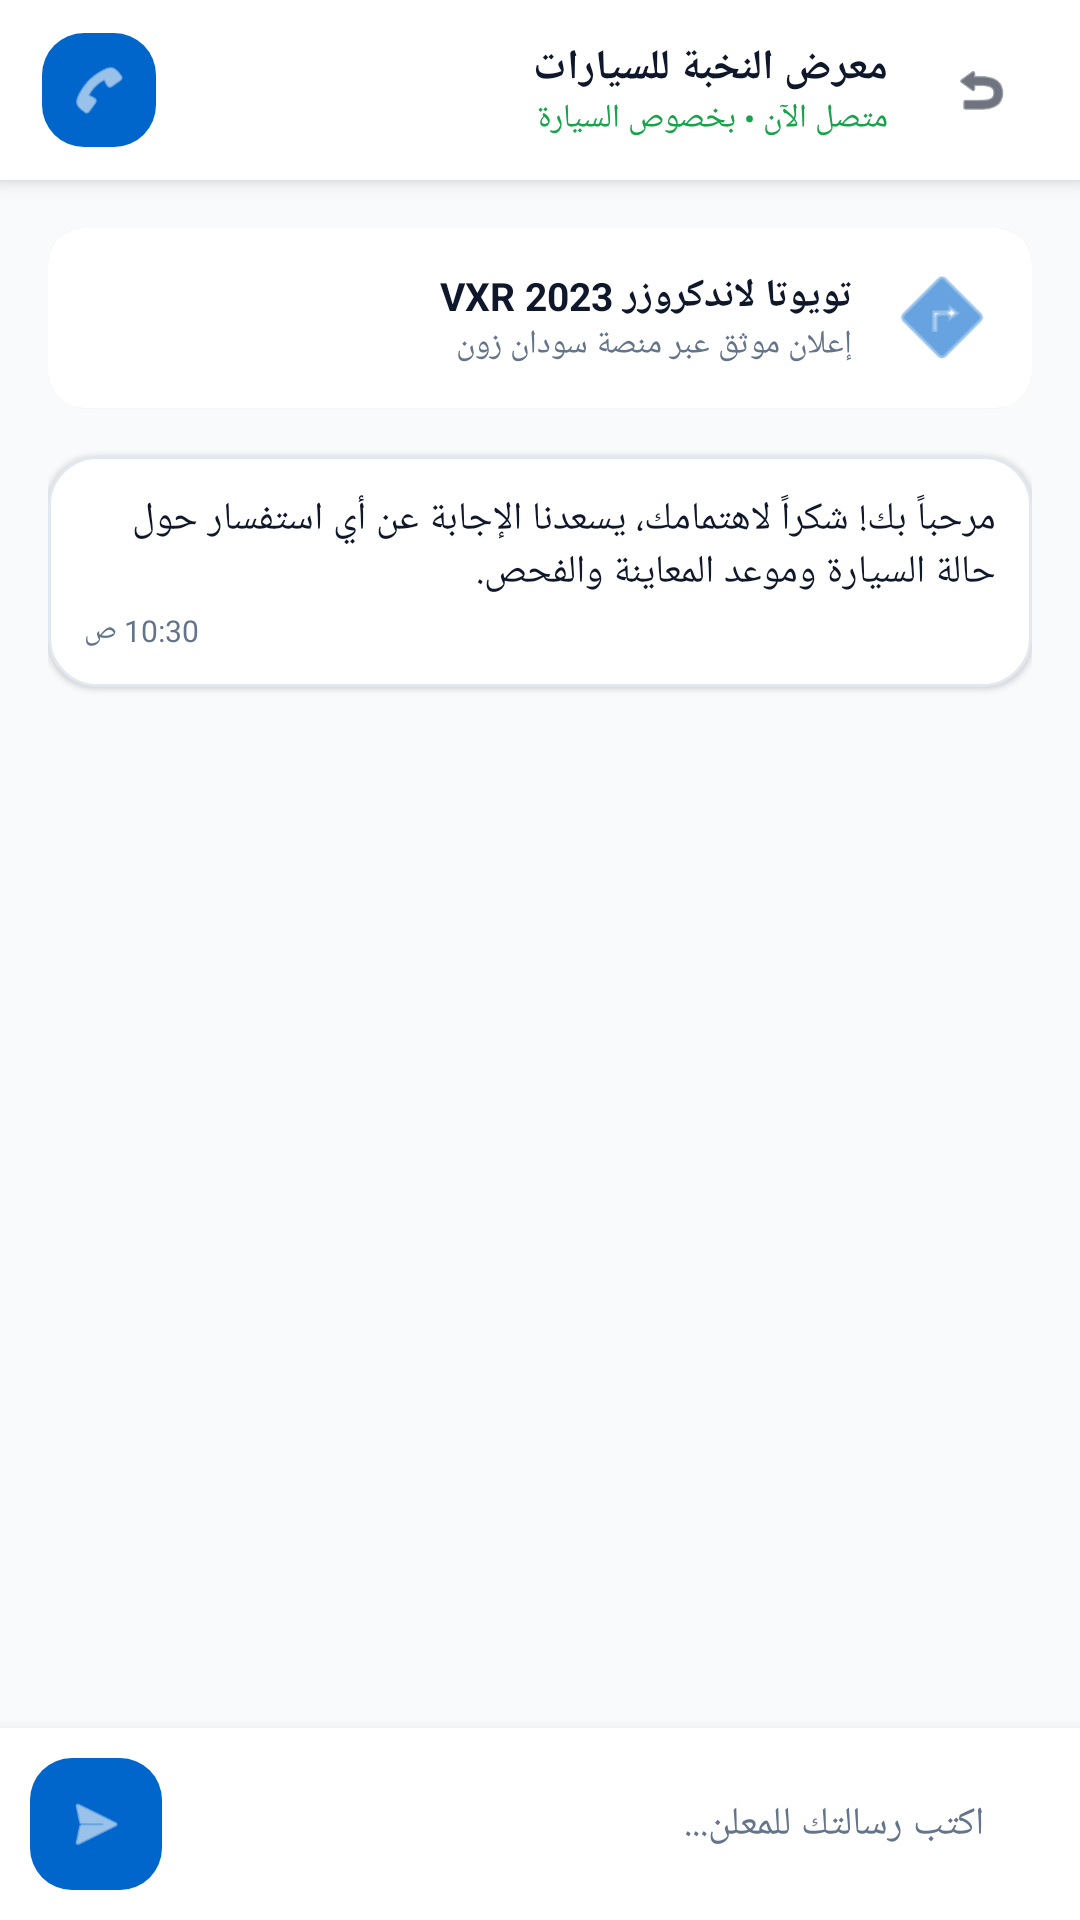

Screen size 1080w x 1920h. Icon name, then its box in pixels as (x1, y1, x2, y2):
call: (42, 33, 156, 147)
directions: (901, 276, 983, 358)
revert: (960, 71, 1003, 110)
send: (30, 1758, 162, 1890)
